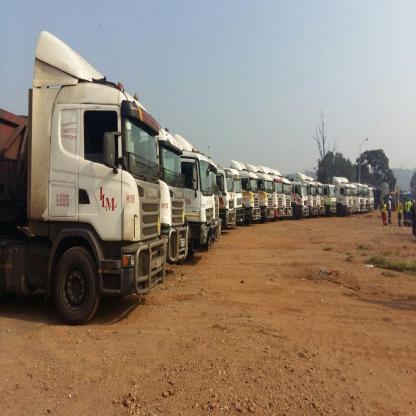dump_truck: (17, 20, 176, 334), (152, 120, 202, 275), (179, 139, 224, 263)
person: (408, 198, 416, 239), (380, 198, 388, 228), (387, 193, 394, 227), (396, 197, 403, 228), (403, 194, 408, 226)
